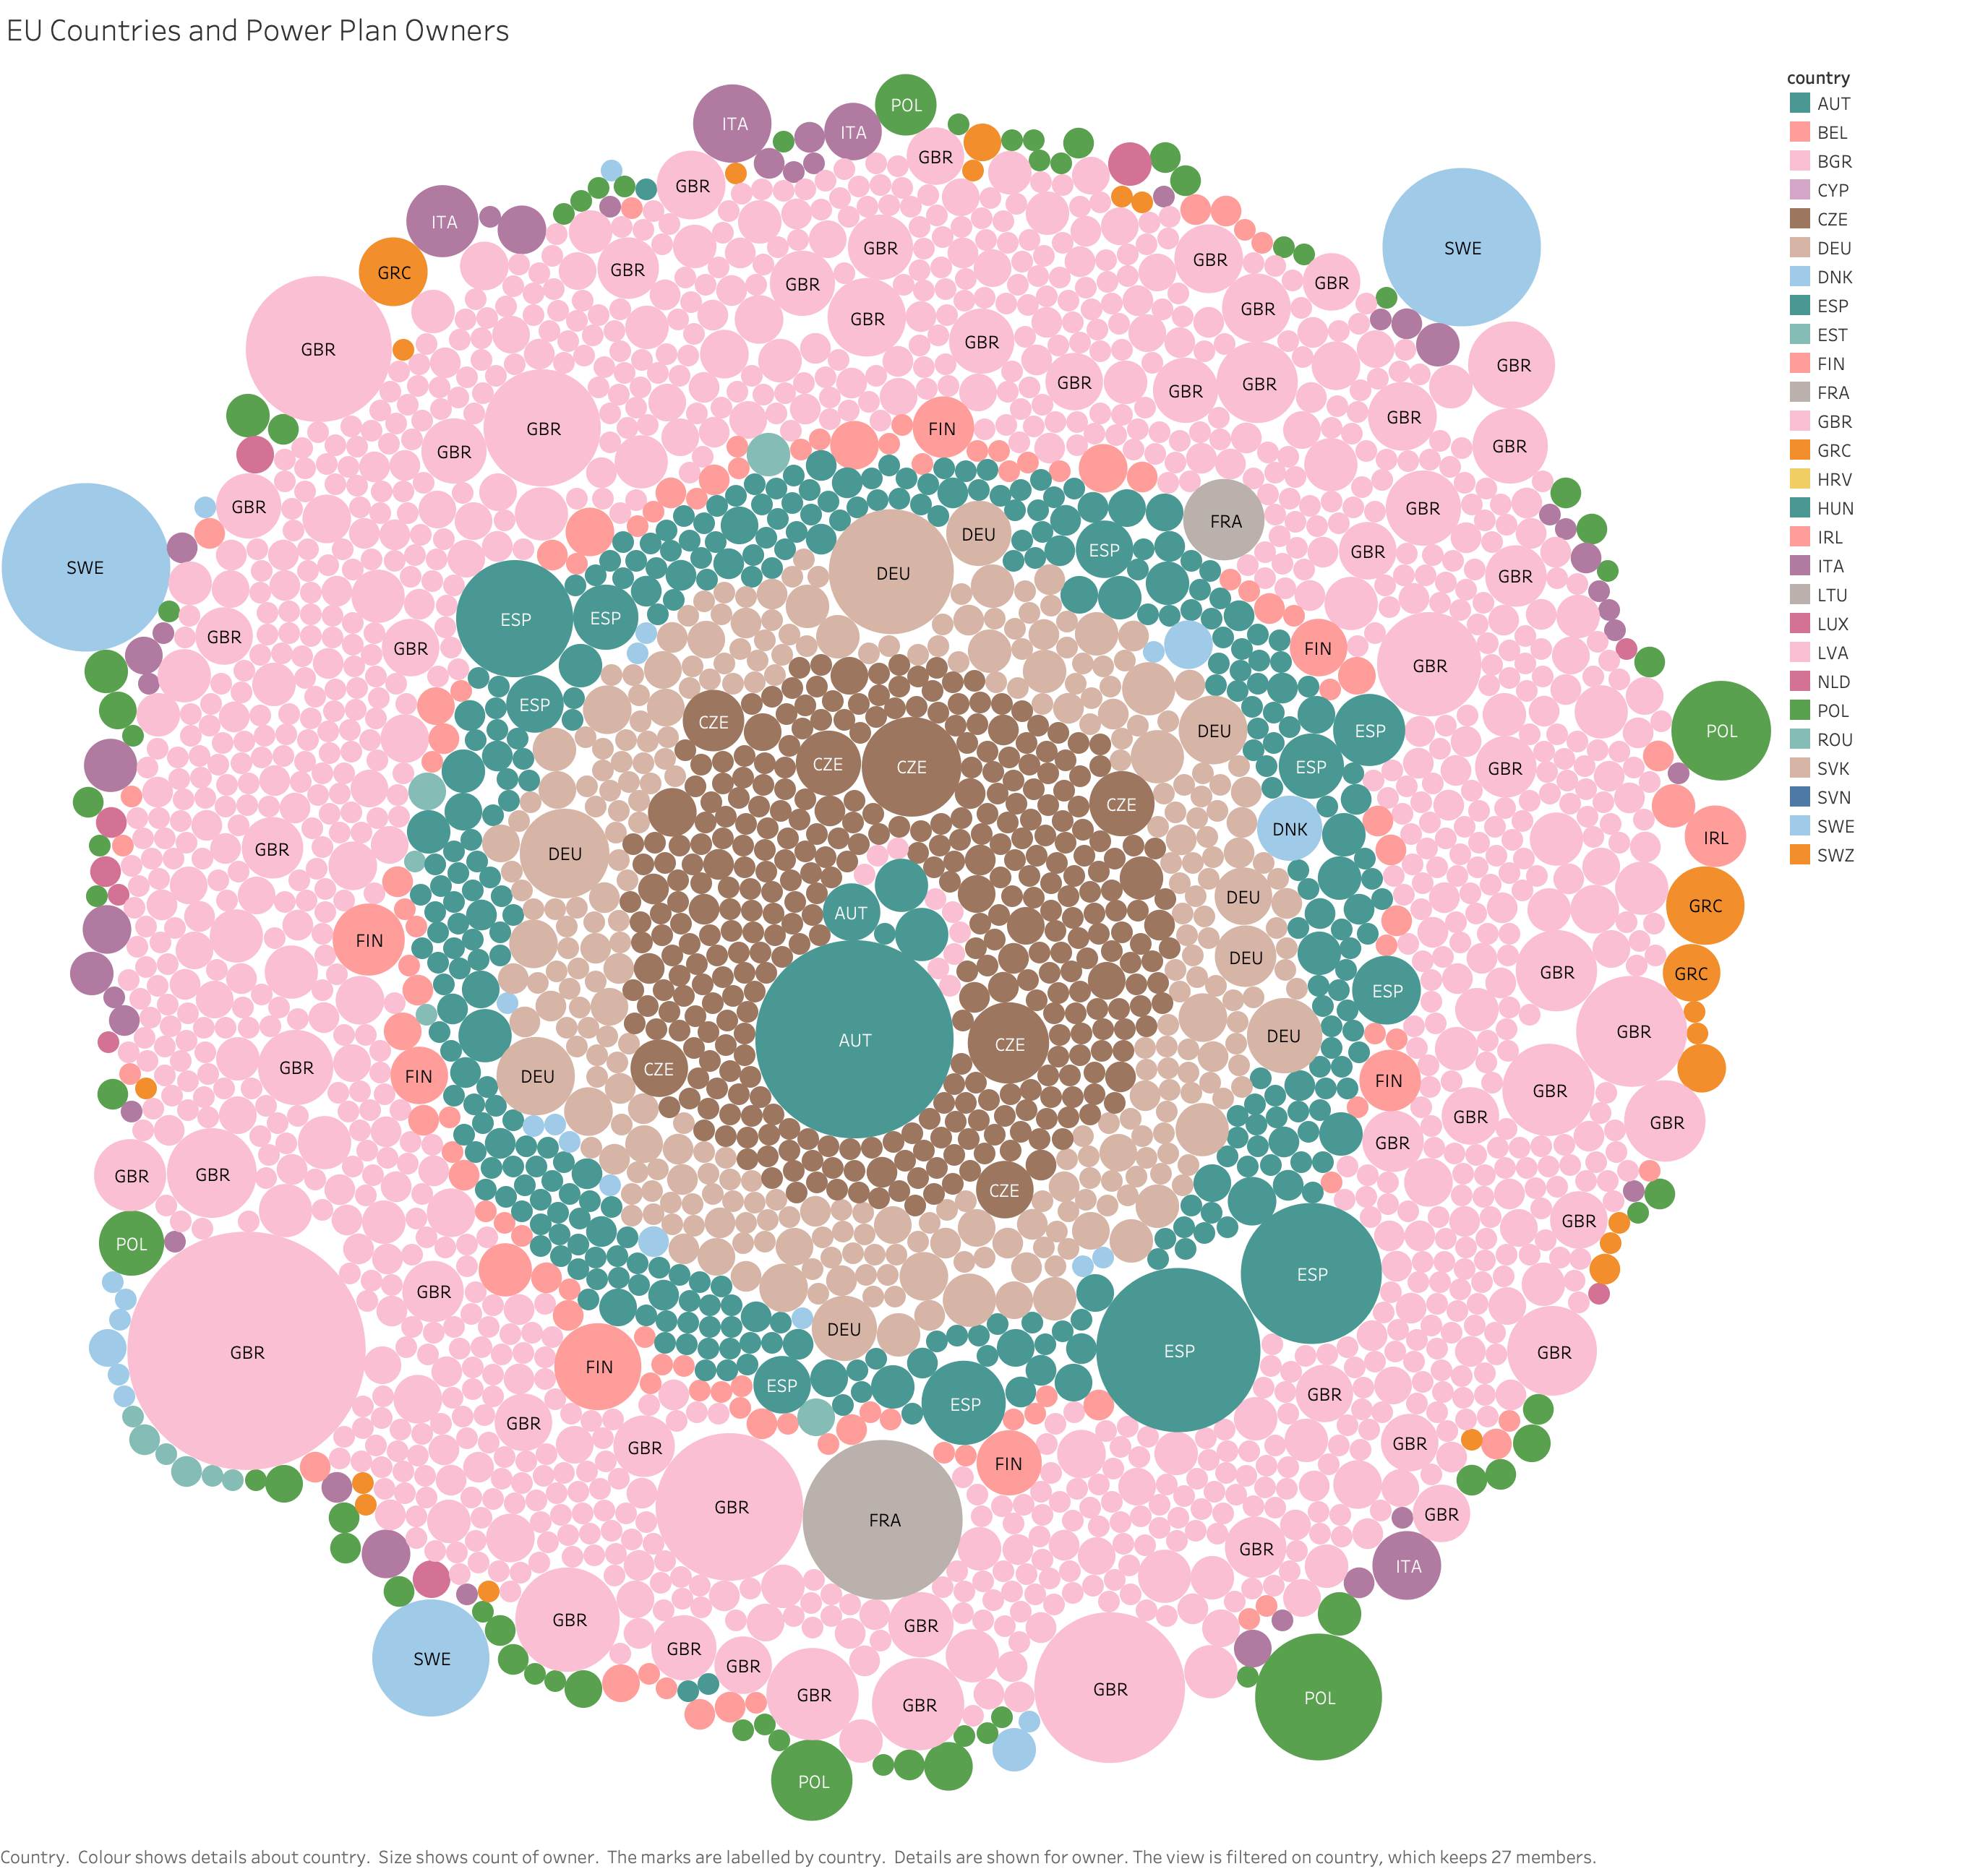

Layout of this report page (visuals, bound fields, positions):
{"tool":"tableau","page":{"name":"Dashboard 1","canvas":[1000,800],"ordinal":0},"visuals":[{"type":"worksheet","title":"Sheet 3","mark":"Automatic","box":[8,8,824,392]},{"type":"legend","title":"Sheet 3","param":"[federated.1jh35lo12rckte1b9hq731qftkwm].[avg:estimated_generation_gwh:qk]","box":[832,8,160,65]},{"type":"legend","title":"Sheet 2","param":"[federated.1jh35lo12rckte1b9hq731qftkwm].[none:primary_fuel:nk]","box":[832,73,160,326]},{"type":"worksheet","title":"Sheet 2","mark":"Automatic","box":[8,400,824,392]}]}

Visuals, with their boxes on the page's 1000x800 design canvas (x1, y1, x2, y2). These are canvas units, not pixel positions in the 1988x1869 screenshot, which may show the page scaled, cropped or inside an application window:
"Sheet 3" worksheet: detection(8, 8, 832, 400)
"Sheet 3" legend: detection(832, 8, 992, 73)
"Sheet 2" legend: detection(832, 73, 992, 399)
"Sheet 2" worksheet: detection(8, 400, 832, 792)
